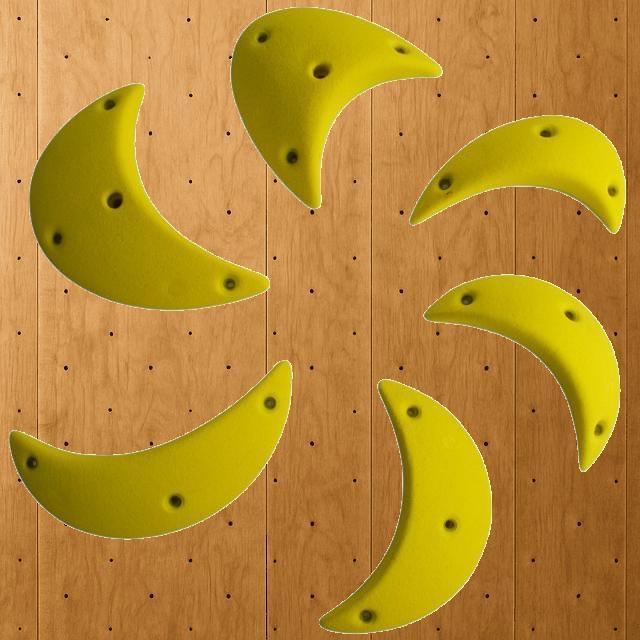Crimp: (28, 82, 270, 310), (8, 359, 292, 539), (318, 378, 492, 634), (229, 5, 441, 208), (424, 273, 620, 471), (408, 113, 626, 233)
